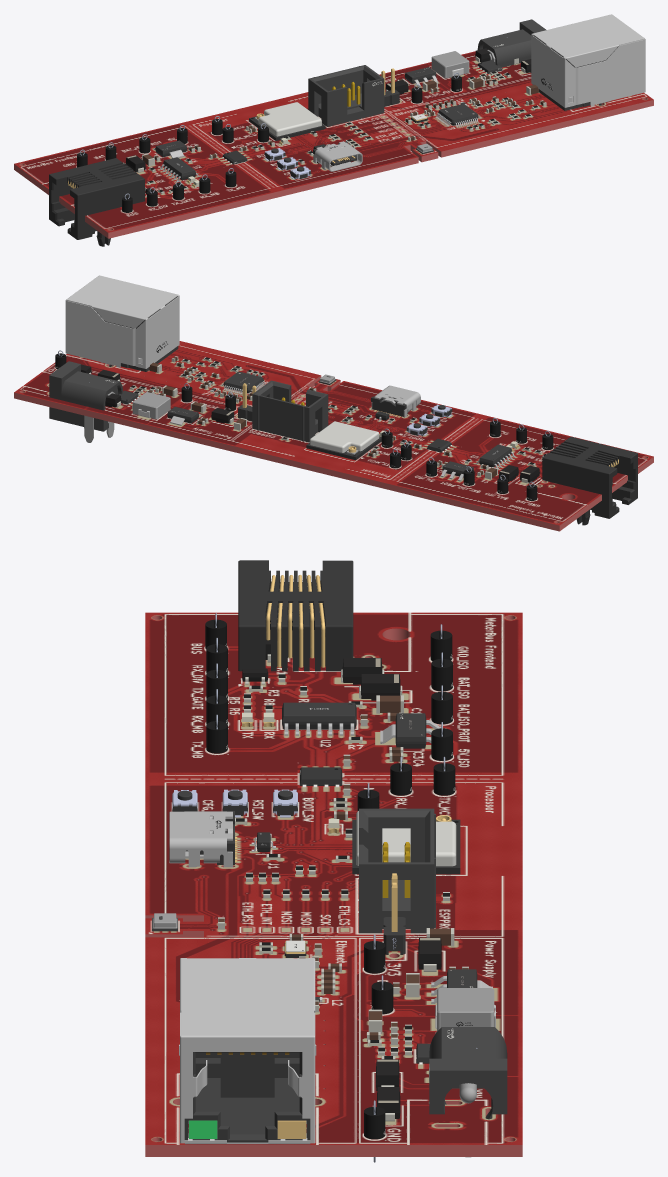
The model's file is eveningstar-red.glb.
3 views of the same model, one above another, from view 1: azimuth 30°, elevation 25°; view 2: azimuth 150°, elevation 25°; view 3: azimuth 270°, elevation 25° (orthographic). The views are drawn at different scales.
Visible parts, largest first — view 1: =>[0:1:1:54], =>[0:1:1:27], =>[0:1:1:11], =>[0:1:1:25], =>[0:1:1:3], =>[0:1:1:5], =>[0:1:1:7], =>[0:1:1:23], =>[0:1:1:31], =>[0:1:1:9]; view 2: =>[0:1:1:54], =>[0:1:1:27], =>[0:1:1:11], =>[0:1:1:25], =>[0:1:1:3], =>[0:1:1:5], =>[0:1:1:31], =>[0:1:1:7], =>[0:1:1:23], =>[0:1:1:9]; view 3: =>[0:1:1:54], =>[0:1:1:27], =>[0:1:1:11], =>[0:1:1:3], =>[0:1:1:25], =>[0:1:1:5], =>[0:1:1:31], =>[0:1:1:23], =>[0:1:1:7], =>[0:1:1:9].
Part boxes in pixels (x1,y1,x2,y2): =>[0:1:1:54]: (14,51,653,238); =>[0:1:1:27]: (531,14,645,110); =>[0:1:1:11]: (49,58,469,246); =>[0:1:1:25]: (308,19,546,154); =>[0:1:1:3]: (77,56,552,212); =>[0:1:1:5]: (153,44,503,181); =>[0:1:1:7]: (143,75,544,164); =>[0:1:1:23]: (431,51,469,78); =>[0:1:1:31]: (123,48,531,171); =>[0:1:1:9]: (264,148,310,178); =>[0:1:1:54]: (14,341,653,531); =>[0:1:1:27]: (65,275,179,371); =>[0:1:1:11]: (132,383,637,525); =>[0:1:1:25]: (49,361,336,442); =>[0:1:1:3]: (55,341,553,500); =>[0:1:1:5]: (56,367,547,499); =>[0:1:1:31]: (81,364,539,482); =>[0:1:1:7]: (148,357,496,478); =>[0:1:1:23]: (133,392,389,420); =>[0:1:1:9]: (406,404,451,435); =>[0:1:1:54]: (145,612,522,1156); =>[0:1:1:27]: (179,958,316,1144); =>[0:1:1:11]: (169,560,494,1138); =>[0:1:1:3]: (205,619,472,1139); =>[0:1:1:25]: (152,808,507,1157); =>[0:1:1:5]: (172,643,492,1134); =>[0:1:1:31]: (265,639,441,1118); =>[0:1:1:23]: (251,833,495,1028); =>[0:1:1:7]: (218,695,468,1039); =>[0:1:1:9]: (172,789,297,817).
Size of the model in its own units: 0.1477 by 0.0232 by 0.0436.
37 materials, 2 textured.
